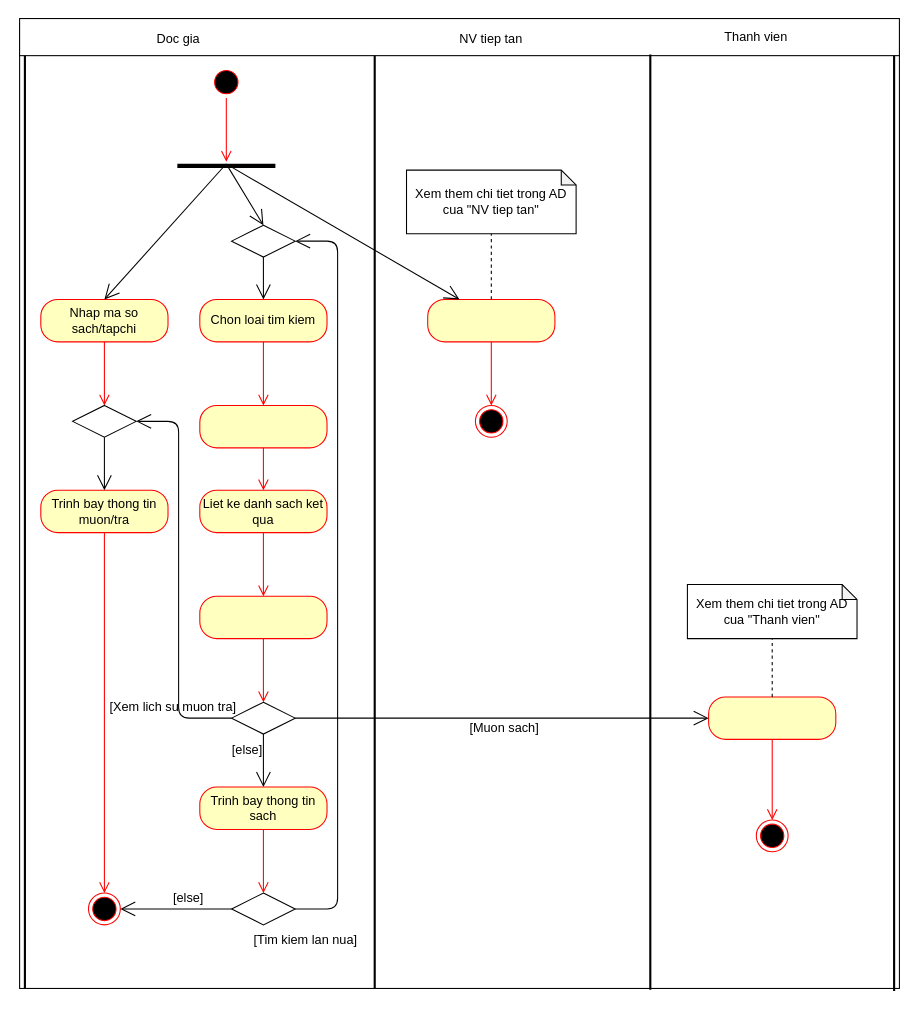
Some shapes in this 918 by 1010 pixel diagram are drawn without their labels. Here are the shapes that lost their labels. From the top down, the box of each, then its label:
(427, 298, 555, 342): Dang ky thanh vien
(199, 404, 327, 448): Nhap thong tin can truy van
(199, 595, 327, 639): Chon 1 thanh phan
(708, 696, 836, 739): Xu ly muon sach
